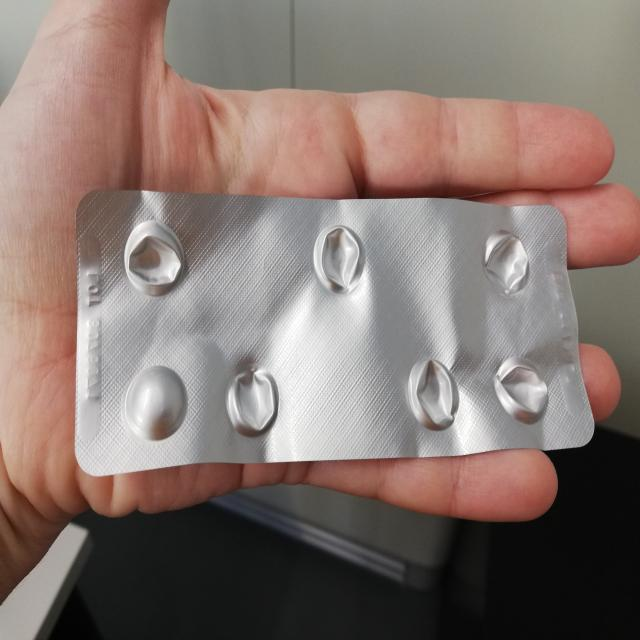Empty: (217, 354, 286, 446), (118, 215, 190, 302), (398, 350, 466, 441), (489, 348, 558, 430), (308, 211, 371, 296), (475, 219, 537, 300)
Pill: (118, 356, 193, 454)
